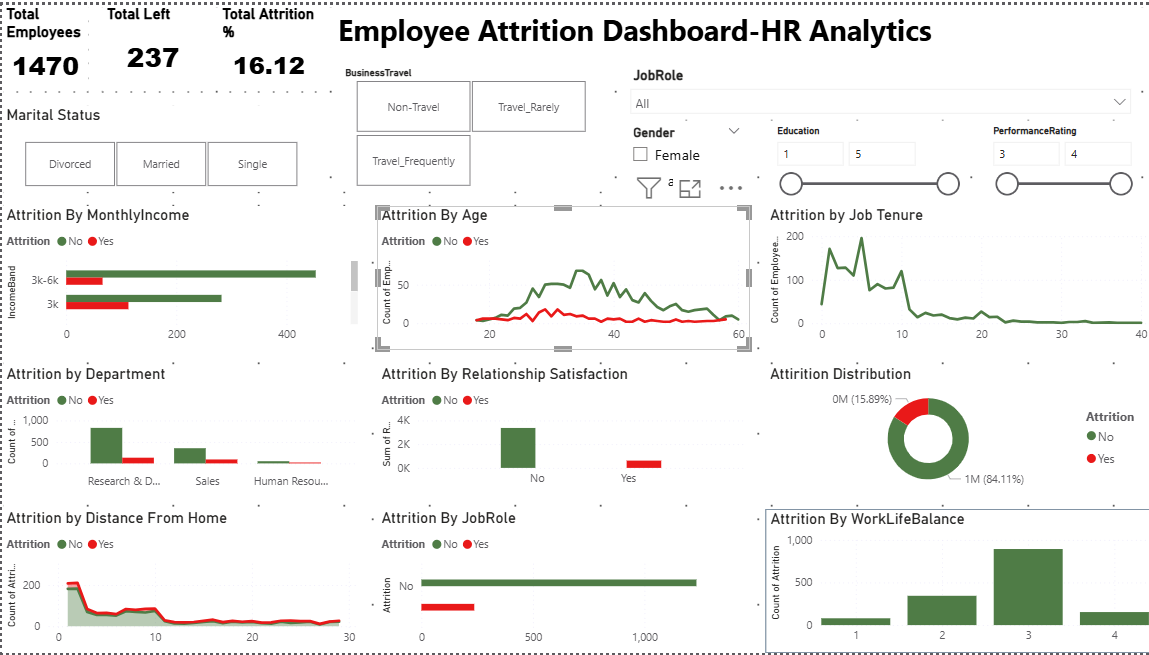

Layout of this report page (visuals, bound fields, positions):
{"tool":"powerbi","page":{"name":"Page 1","canvas":[1280,720],"ordinal":0},"visuals":[{"type":"card","title":"Total Employees","fields":{"Values":["Cleaned_Employee_Attrition.TotalEmployess"]},"box":[0,0,96,96],"z":0},{"type":"card","title":"Total Left","fields":{"Values":["Cleaned_Employee_Attrition.TotalAttrition"]},"box":[112,0,112,96],"z":1000},{"type":"card","title":"Total Attrition %","fields":{"Values":["Cleaned_Employee_Attrition.Attrition %"]},"box":[240,0,112,96],"z":2000},{"type":"clusteredColumnChart","title":"Attrition by Department","fields":{"Category":["Cleaned_Employee_Attrition.Department"],"Series":["Cleaned_Employee_Attrition.Attrition"],"Y":["CountNonNull(Cleaned_Employee_Attrition.EmployeeNumber)"]},"box":[0,400,400,144],"z":3000},{"type":"stackedAreaChart","title":"Attrition by Distance From Home","fields":{"Category":["Cleaned_Employee_Attrition.DistanceFromHome"],"Series":["Cleaned_Employee_Attrition.Attrition"],"Y":["CountNonNull(Cleaned_Employee_Attrition.Attrition)"]},"box":[0,560,400,160],"z":4000},{"type":"lineClusteredColumnComboChart","title":"Attrition By Relationship Satisfaction","fields":{"Category":["Cleaned_Employee_Attrition.Attrition"],"Y":["Sum(Cleaned_Employee_Attrition.RelationshipSatisfaction)"],"Series":["Cleaned_Employee_Attrition.Attrition"]},"box":[416,400,416,144],"z":5000},{"type":"clusteredBarChart","title":"Attrition By JobRole","fields":{"Y":["CountNonNull(Cleaned_Employee_Attrition.JobRole)"],"Series":["Cleaned_Employee_Attrition.Attrition"],"Category":["Cleaned_Employee_Attrition.Attrition"]},"box":[416,560,416,160],"z":6000},{"type":"donutChart","title":"Attirition Distribution","fields":{"Category":["Cleaned_Employee_Attrition.Attrition"],"Y":["Sum(Cleaned_Employee_Attrition.EmployeeNumber)"]},"box":[848,400,432,144],"z":7000},{"type":"clusteredColumnChart","title":"Attrition  By WorkLifeBalance","fields":{"Category":["Cleaned_Employee_Attrition.WorkLifeBalance"],"Y":["CountNonNull(Cleaned_Employee_Attrition.Attrition)"]},"box":[848,560,432,160],"z":8000},{"type":"clusteredBarChart","title":"Attrition By MonthlyIncome","fields":{"Series":["Cleaned_Employee_Attrition.Attrition"],"Y":["CountNonNull(Cleaned_Employee_Attrition.EmployeeNumber)"],"Category":["Cleaned_Employee_Attrition.IncomeBand"]},"box":[0,224,400,160],"z":9000},{"type":"lineChart","title":"Attrition By Age","fields":{"Category":["Cleaned_Employee_Attrition.Age"],"Y":["CountNonNull(Cleaned_Employee_Attrition.EmployeeNumber)"],"Series":["Cleaned_Employee_Attrition.Attrition"]},"box":[416,224,416,160],"z":10000},{"type":"lineChart","title":"Attrition by Job Tenure","fields":{"Category":["Cleaned_Employee_Attrition.YearsAtCompany"],"Y":["CountNonNull(Cleaned_Employee_Attrition.EmployeeNumber)"]},"box":[848,224,432,160],"z":11000},{"type":"slicer","fields":{"Values":["Cleaned_Employee_Attrition.Gender"]},"box":[688,128,144,96],"z":12000},{"type":"slicer","fields":{"Values":["Cleaned_Employee_Attrition.BusinessTravel"]},"box":[368,64,304,144],"z":13000},{"type":"slicer","fields":{"Values":["Cleaned_Employee_Attrition.JobRole"]},"box":[688,64,576,64],"z":14000},{"type":"slicer","title":"Marital Status","fields":{"Values":["Cleaned_Employee_Attrition.MaritalStatus"]},"box":[0,112,352,96],"z":15000},{"type":"slicer","fields":{"Values":["Cleaned_Employee_Attrition.Education"]},"box":[848,128,224,96],"z":16000},{"type":"slicer","fields":{"Values":["Cleaned_Employee_Attrition.PerformanceRating"]},"box":[1088,128,176,96],"z":17000},{"type":"textbox","box":[368,0,896,64],"z":18000}]}

Visuals, with their boxes in screenshot pixels (x1, y1, x2, y2), scaled from the page's 1280x720 canvas onto the 1149x655 screenshot:
"Total Employees" card: [left=0, top=0, right=86, bottom=87]
"Total Left" card: [left=101, top=0, right=201, bottom=87]
"Total Attrition %" card: [left=215, top=0, right=316, bottom=87]
"Attrition by Department" clusteredColumnChart: [left=0, top=364, right=359, bottom=495]
"Attrition by Distance From Home" stackedAreaChart: [left=0, top=509, right=359, bottom=654]
"Attrition By Relationship Satisfaction" lineClusteredColumnComboChart: [left=373, top=364, right=747, bottom=495]
"Attrition By JobRole" clusteredBarChart: [left=373, top=509, right=747, bottom=654]
"Attirition Distribution" donutChart: [left=761, top=364, right=1148, bottom=495]
"Attrition  By WorkLifeBalance" clusteredColumnChart: [left=761, top=509, right=1148, bottom=654]
"Attrition By MonthlyIncome" clusteredBarChart: [left=0, top=204, right=359, bottom=349]
"Attrition By Age" lineChart: [left=373, top=204, right=747, bottom=349]
"Attrition by Job Tenure" lineChart: [left=761, top=204, right=1148, bottom=349]
slicer - Cleaned_Employee_Attrition.Gender: [left=618, top=116, right=747, bottom=204]
slicer - Cleaned_Employee_Attrition.BusinessTravel: [left=330, top=58, right=603, bottom=189]
slicer - Cleaned_Employee_Attrition.JobRole: [left=618, top=58, right=1135, bottom=116]
"Marital Status" slicer: [left=0, top=102, right=316, bottom=189]
slicer - Cleaned_Employee_Attrition.Education: [left=761, top=116, right=962, bottom=204]
slicer - Cleaned_Employee_Attrition.PerformanceRating: [left=977, top=116, right=1135, bottom=204]
textbox: [left=330, top=0, right=1135, bottom=58]
